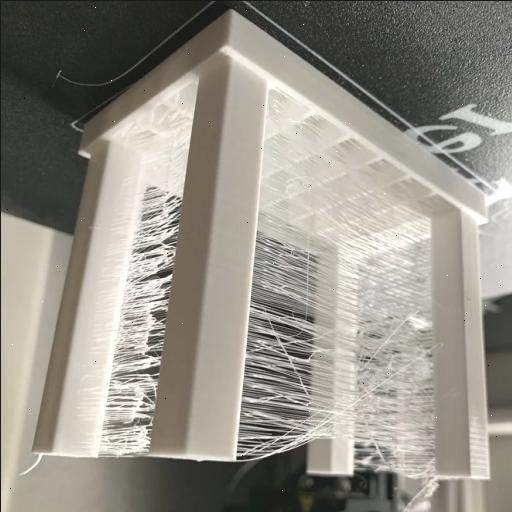stringing: (246, 244, 448, 450), (104, 306, 159, 456), (125, 173, 174, 309)
